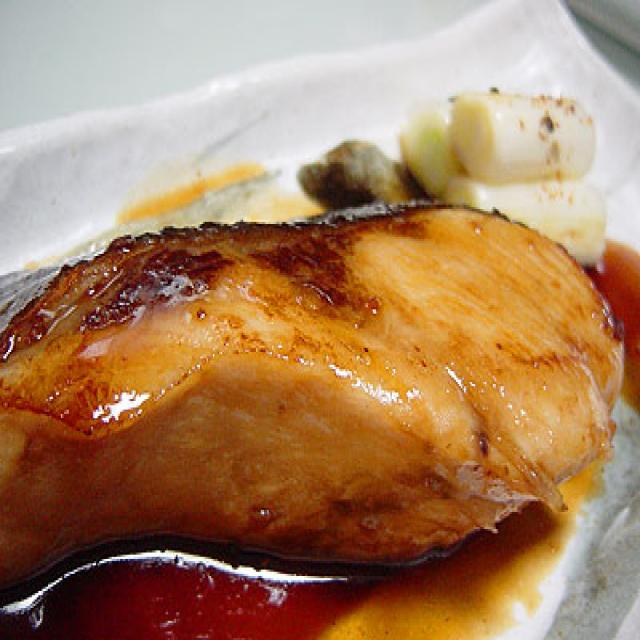熟制海鲜: (0, 211, 610, 610)
